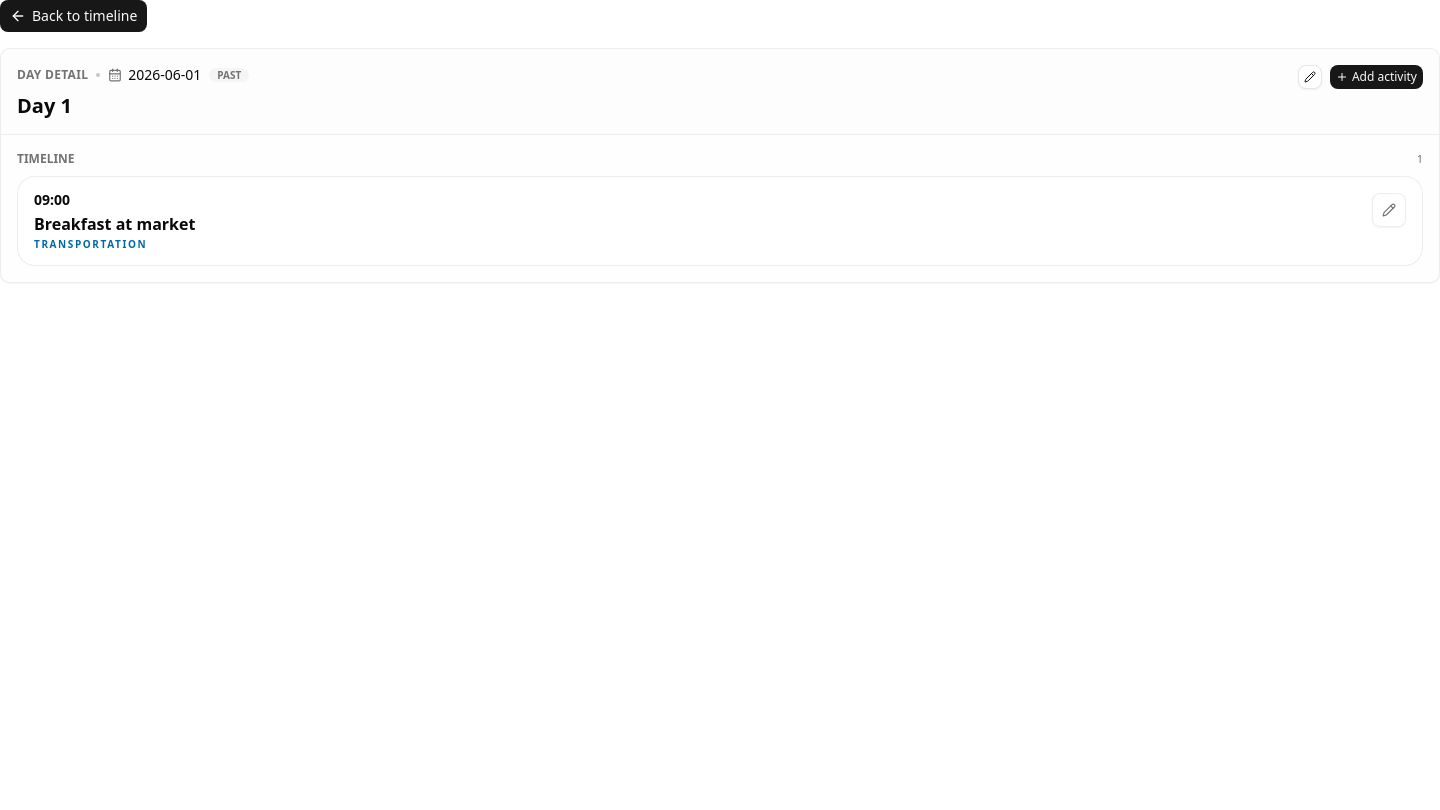
Scenario: TimelineTab › opens the existing Edit Activity modal from day detail with initial values
This screenshot has width=1440, height=810.
Click the button named "Edit Breakfast at market" at {"x": 1389, "y": 210}, box [1375,196,1403,224]
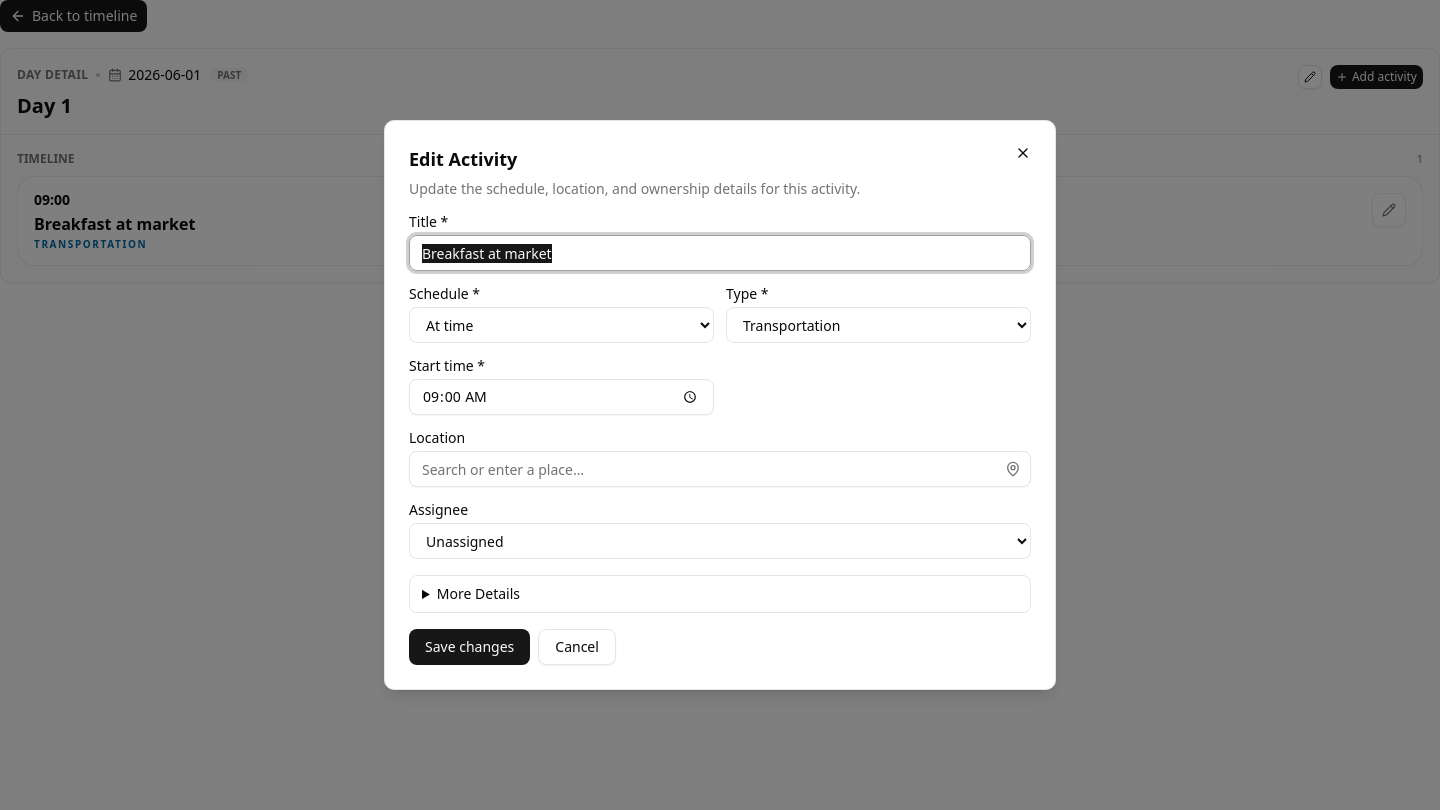
Expected: the heading "Edit Activity" is shown, [409,147,517,171]
Expected: the field labelled "Title *" holds "Breakfast at market", [409,235,1031,271]
